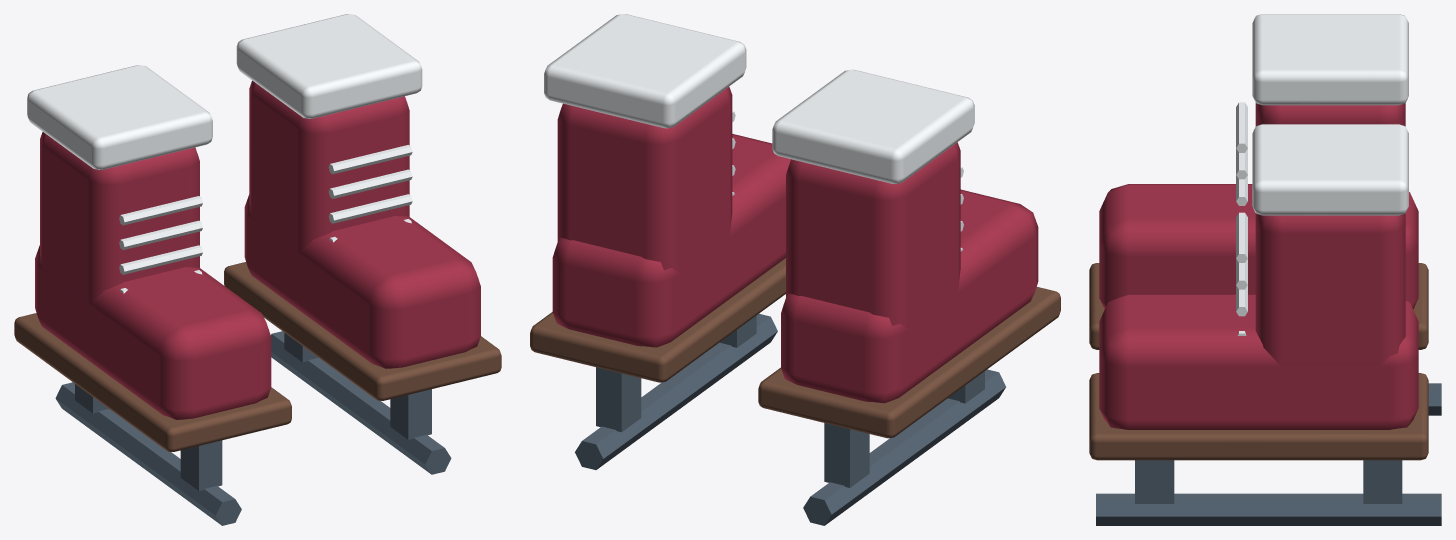
Rendered from alpine-snow-village-laced-ice-skates-9cf7676c__19818.glb.
3 renders of one model, left to right at view 1: azimuth 30°, elevation 25°; view 2: azimuth 150°, elevation 25°; view 3: azimuth 270°, elevation 25°, orthographic. The views are drawn at different scales.
Parts seen in each view (by area): view 1: laced-ice-skates-berry, laced-ice-skates-snow, laced-ice-skates-wood, laced-ice-skates-iron; view 2: laced-ice-skates-berry, laced-ice-skates-snow, laced-ice-skates-wood, laced-ice-skates-iron; view 3: laced-ice-skates-berry, laced-ice-skates-snow, laced-ice-skates-iron, laced-ice-skates-wood.
Part boxes in pixels (x1,y1,x2,y2): laced-ice-skates-berry: [35, 80, 480, 419]; laced-ice-skates-snow: [27, 14, 422, 293]; laced-ice-skates-wood: [14, 262, 501, 451]; laced-ice-skates-iron: [55, 331, 451, 525]; laced-ice-skates-berry: [552, 87, 1038, 403]; laced-ice-skates-snow: [544, 14, 974, 251]; laced-ice-skates-wood: [530, 258, 1060, 438]; laced-ice-skates-iron: [575, 313, 1005, 525]; laced-ice-skates-berry: [1099, 103, 1418, 429]; laced-ice-skates-snow: [1236, 14, 1408, 335]; laced-ice-skates-iron: [1096, 383, 1441, 525]; laced-ice-skates-wood: [1089, 263, 1428, 460].
Size of the model in its own units: 0.64 by 0.6266 by 0.54.
